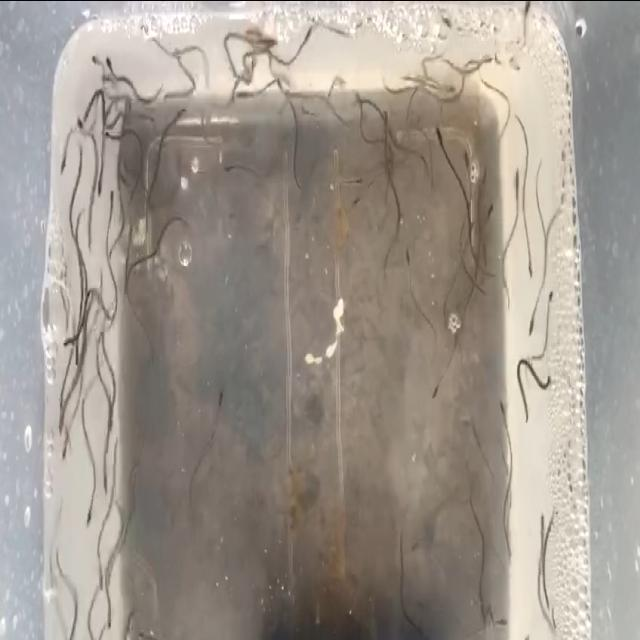inactive_glass_eel: (433, 116, 445, 160), (102, 397, 116, 433), (73, 342, 89, 372), (428, 373, 442, 403), (82, 490, 94, 524), (497, 398, 512, 424), (102, 51, 116, 78), (64, 322, 74, 359), (58, 152, 71, 180), (489, 194, 500, 227), (381, 98, 391, 134), (216, 386, 227, 418), (220, 149, 233, 175), (546, 286, 558, 314), (273, 72, 285, 100), (173, 102, 188, 124), (402, 248, 414, 275), (104, 594, 113, 630), (96, 170, 108, 196), (75, 104, 94, 120), (76, 146, 87, 173), (538, 374, 554, 392), (514, 162, 522, 198), (56, 401, 66, 429), (462, 146, 472, 173), (96, 565, 106, 591), (110, 179, 118, 211), (122, 269, 130, 301), (61, 437, 70, 462), (350, 188, 360, 210), (108, 236, 118, 258), (536, 515, 548, 533), (104, 124, 114, 144), (98, 466, 106, 491), (528, 309, 536, 333), (88, 53, 100, 69), (354, 166, 365, 183), (527, 256, 535, 278), (497, 611, 508, 626), (125, 220, 134, 238)
